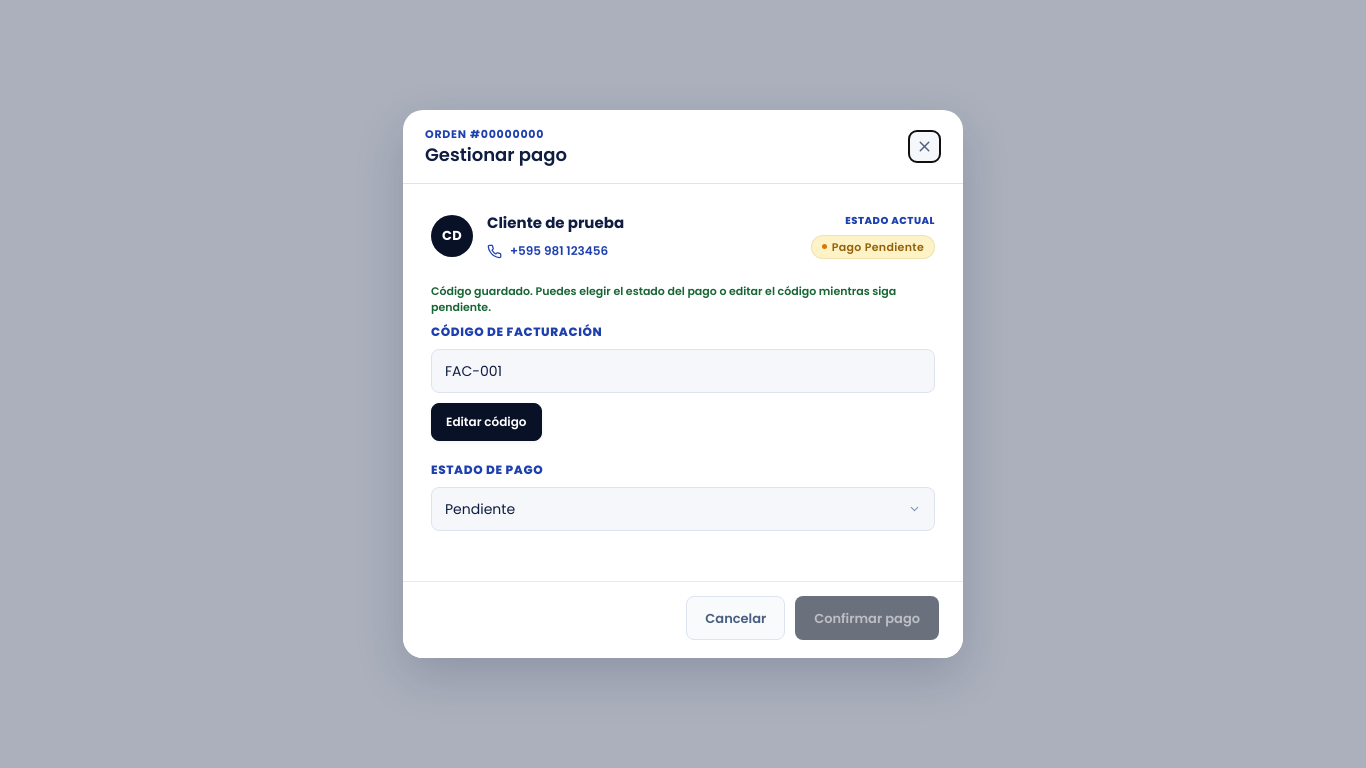
Test: PaymentFormModal layout › keeps the saved invoice and editable draft after an edit save error
Click the button "Editar código".
click(486, 422)  # box x1=431 y1=404 x2=542 y2=442
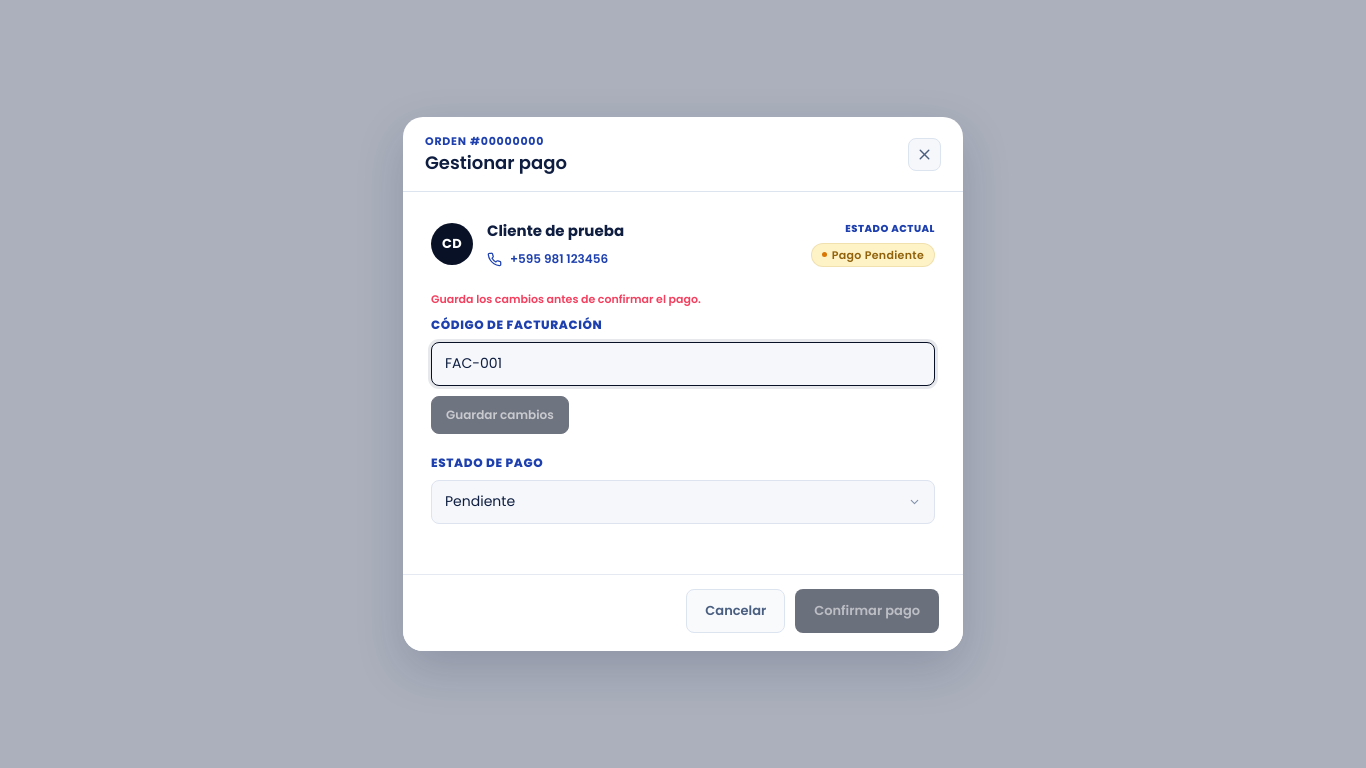
Replace the text in the field labelled "Código de facturación" with "FAC-BORRADOR" at (683, 364), box x1=431 y1=342 x2=935 y2=386
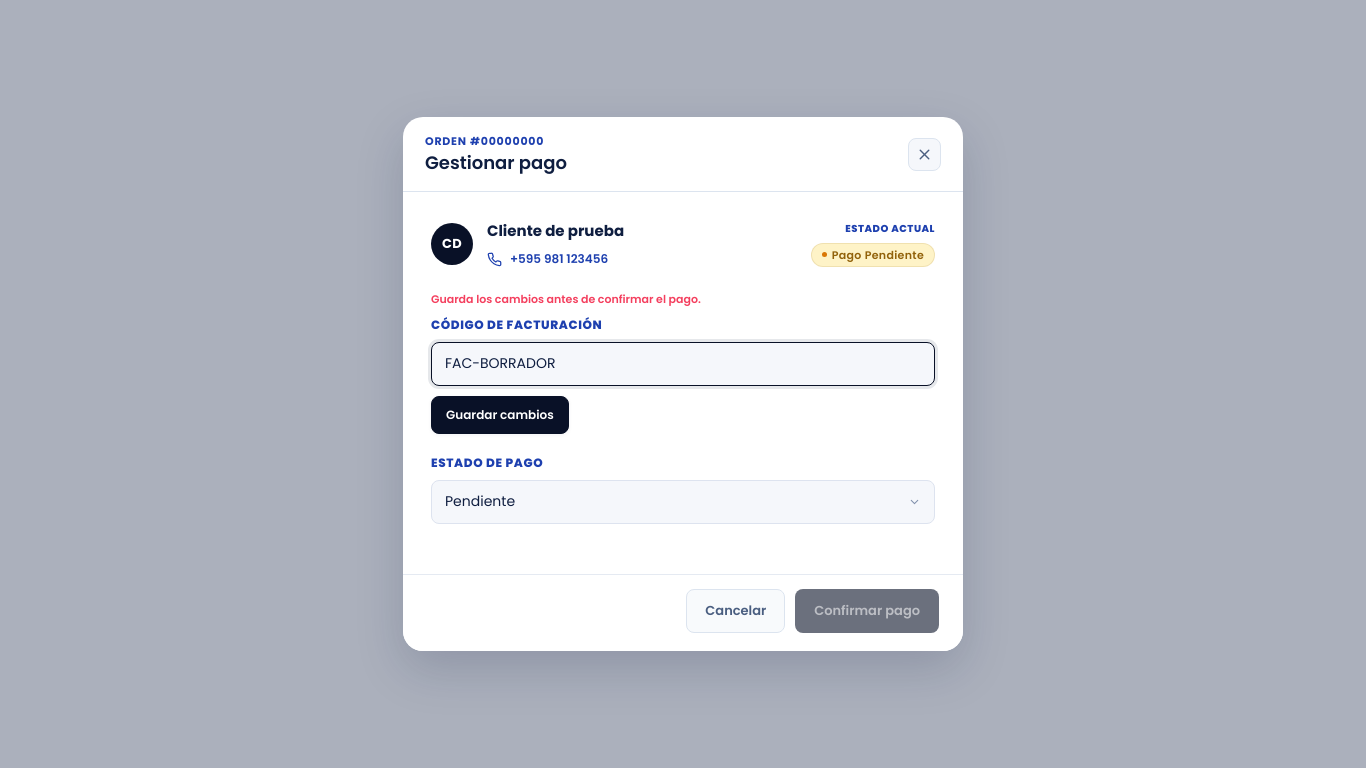
Click the button "Guardar cambios".
click(500, 414)  # box x1=431 y1=396 x2=569 y2=434
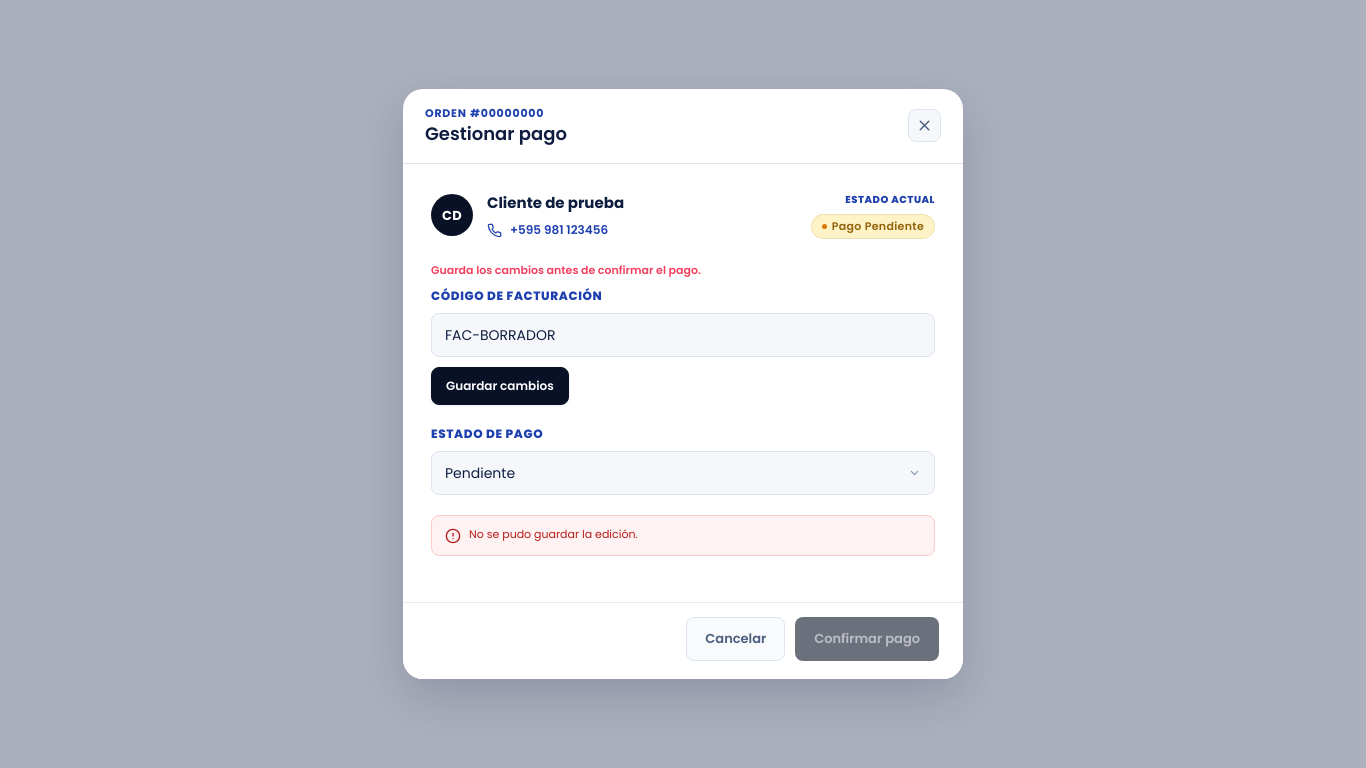
Now the button "Guardar cambios" is enabled, box x1=431 y1=367 x2=569 y2=405
Now the message reads "No se pudo guardar la edición.", box x1=469 y1=526 x2=638 y2=542
